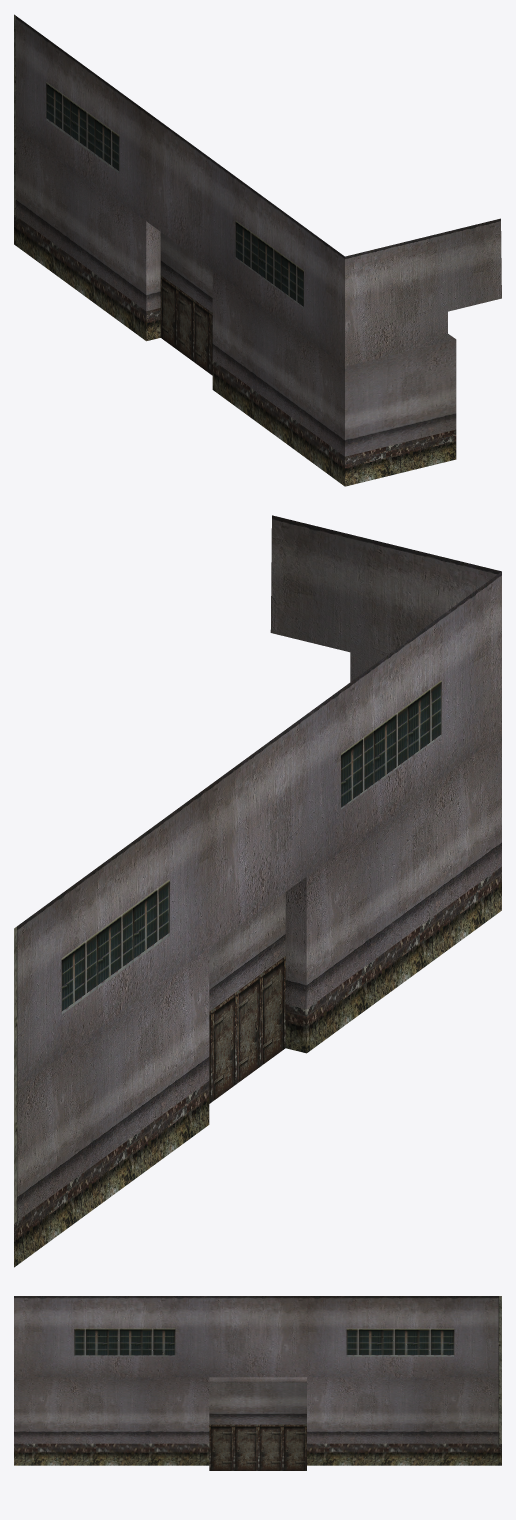
The model's file is M10_SmallSpace01.glb.
3 renders of one model, top to bottom at view 1: azimuth 30°, elevation 25°; view 2: azimuth 150°, elevation 25°; view 3: azimuth 270°, elevation 25°, orthographic. The views are drawn at different scales.
Parts seen in each view (by area): view 1: M10_SMALLSPACE01; view 2: M10_SMALLSPACE01; view 3: M10_SMALLSPACE01.
Part boxes in pixels (left/top/right/bottom): M10_SMALLSPACE01: left=14, top=14, right=501, bottom=486; M10_SMALLSPACE01: left=14, top=515, right=501, bottom=1267; M10_SMALLSPACE01: left=14, top=1296, right=501, bottom=1470.
Bounding box in the file's own units: 5.47 × 7.67 × 20.01.
Materials: 5 (5 with a texture image).
